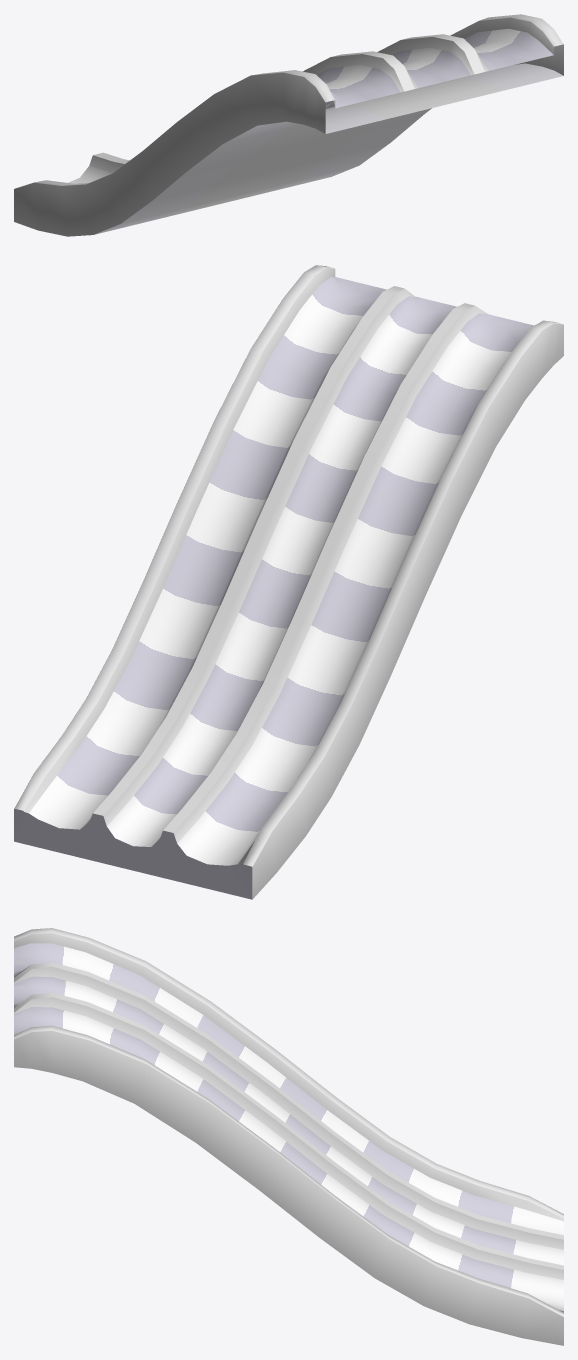
File: Platform_Slides.fbx
The picture shows the model from 3 angles, top to bottom: view 1: azimuth 30°, elevation 25°; view 2: azimuth 150°, elevation 25°; view 3: azimuth 270°, elevation 25°; orthographic projection. The views are drawn at different scales.
Parts seen in each view (by area): view 1: Platform_Slides; view 2: Platform_Slides; view 3: Platform_Slides.
Boxes of the visible parts, x1,y1,x2,y2 form: Platform_Slides: (14,14,563,236); Platform_Slides: (14,265,563,899); Platform_Slides: (14,928,563,1345).
Bounding box in the file's own units: 960 × 1374 × 2172.
